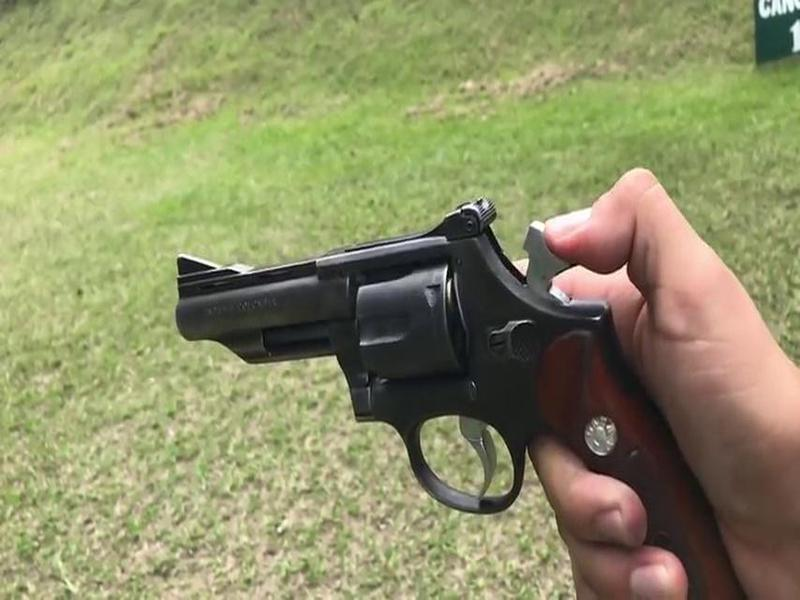Revolver: (184, 179, 709, 529)
